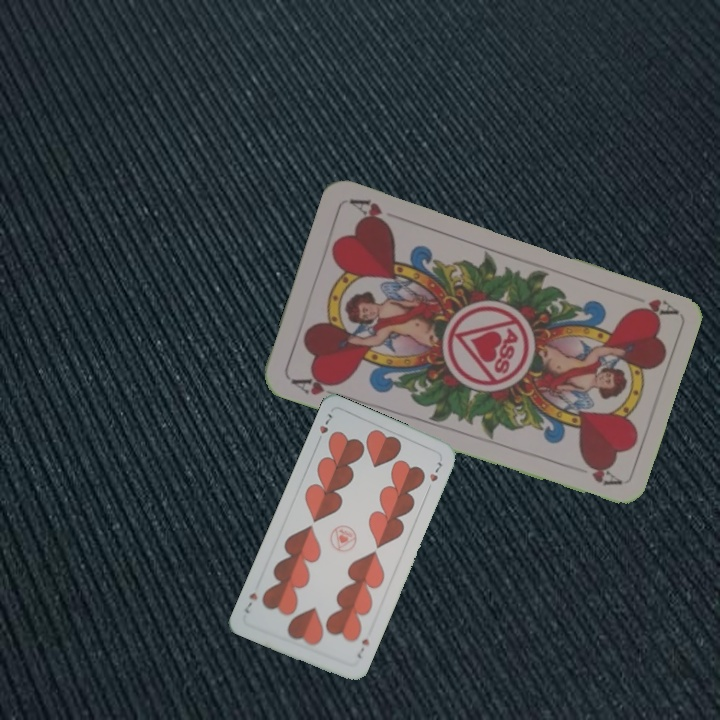H7: (313, 409, 335, 447), (353, 634, 372, 661)
HA: (286, 371, 345, 398), (629, 295, 678, 319)
